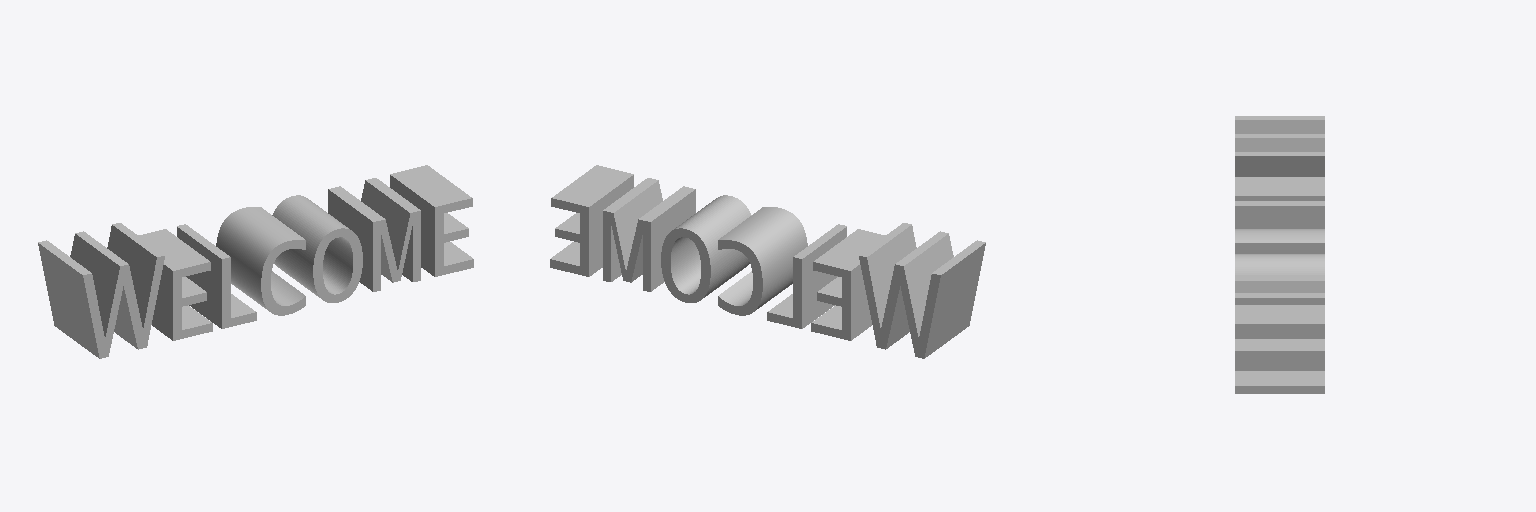
File: welcome.obj
3 views of the same model, side by side, from view 1: azimuth 30°, elevation 25°; view 2: azimuth 150°, elevation 25°; view 3: azimuth 270°, elevation 25° (orthographic).
Parts seen in each view (by area): view 1: Text; view 2: Text; view 3: Text.
Part boxes in pixels (left/top/right/bottom): Text: left=38, top=165, right=473, bottom=358; Text: left=550, top=165, right=985, bottom=358; Text: left=1235, top=116, right=1324, bottom=393.
Size of the model in its own units: 1.08 by 0.2349 by 0.2152.